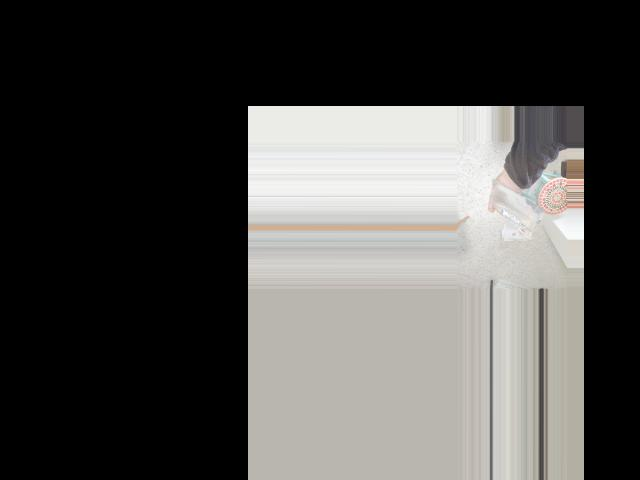cheese: (484, 174, 560, 246)
